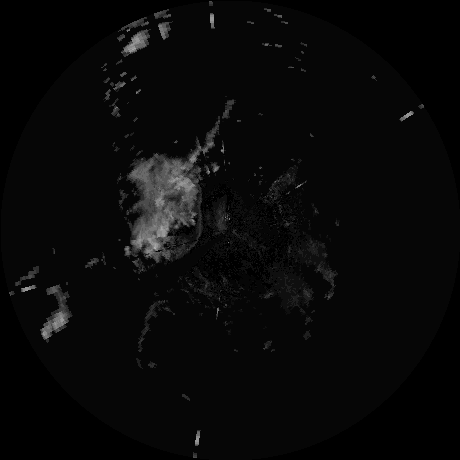frontgust: (136, 301, 162, 355), (195, 186, 208, 248)
